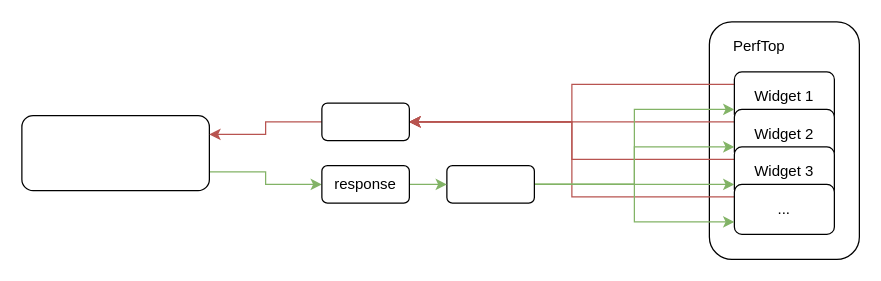
Some shapes in this 881 by 281 pixel diagram are drawn without their labels. Each missing label, with the centre of its shape:
GET: point 365,121
parse: point 490,183
Performance Analyzer REST API: point 115,152
